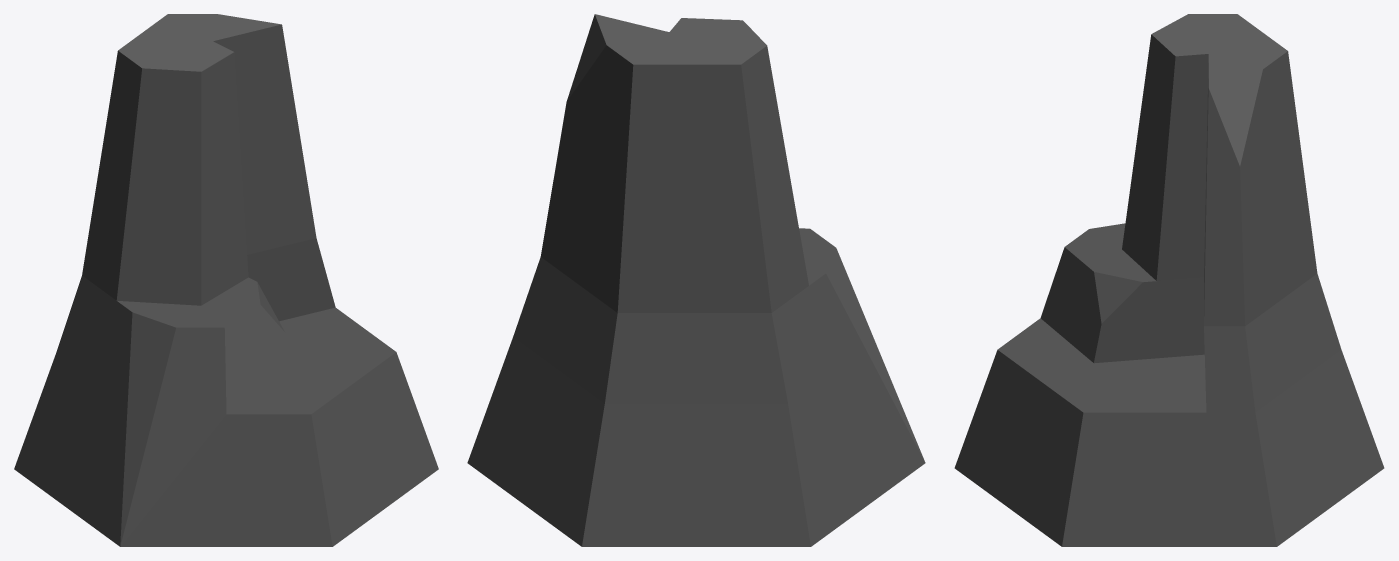
File: StoneOre3.fbx
The picture shows the model from 3 angles, left to right: view 1: azimuth 30°, elevation 25°; view 2: azimuth 150°, elevation 25°; view 3: azimuth 270°, elevation 25°; orthographic projection. The views are drawn at different scales.
Visible parts, largest first — view 1: Stone4_4, Stone4_3, Stone4_2, Stone4_1; view 2: Stone4_3, Stone4_2, Stone4_1, Stone4_4; view 3: Stone4_4, Stone4_3, Stone4_2, Stone4_1.
Part boxes in pixels (x1=…): Stone4_4: x1=14, y1=307, x2=438, y2=546; Stone4_3: x1=14, y1=238, x2=335, y2=468; Stone4_2: x1=82, y1=95, x2=316, y2=305; Stone4_1: x1=99, y1=14, x2=293, y2=188; Stone4_3: x1=467, y1=228, x2=861, y2=546; Stone4_2: x1=540, y1=102, x2=808, y2=312; Stone4_1: x1=566, y1=14, x2=788, y2=192; Stone4_4: x1=811, y1=309, x2=925, y2=546; Stone4_4: x1=954, y1=318, x2=1276, y2=546; Stone4_3: x1=1040, y1=223, x2=1384, y2=546; Stone4_2: x1=1122, y1=134, x2=1317, y2=326; Stone4_1: x1=1137, y1=14, x2=1300, y2=166.
Size of the model in its own units: 188 by 233 by 218.
